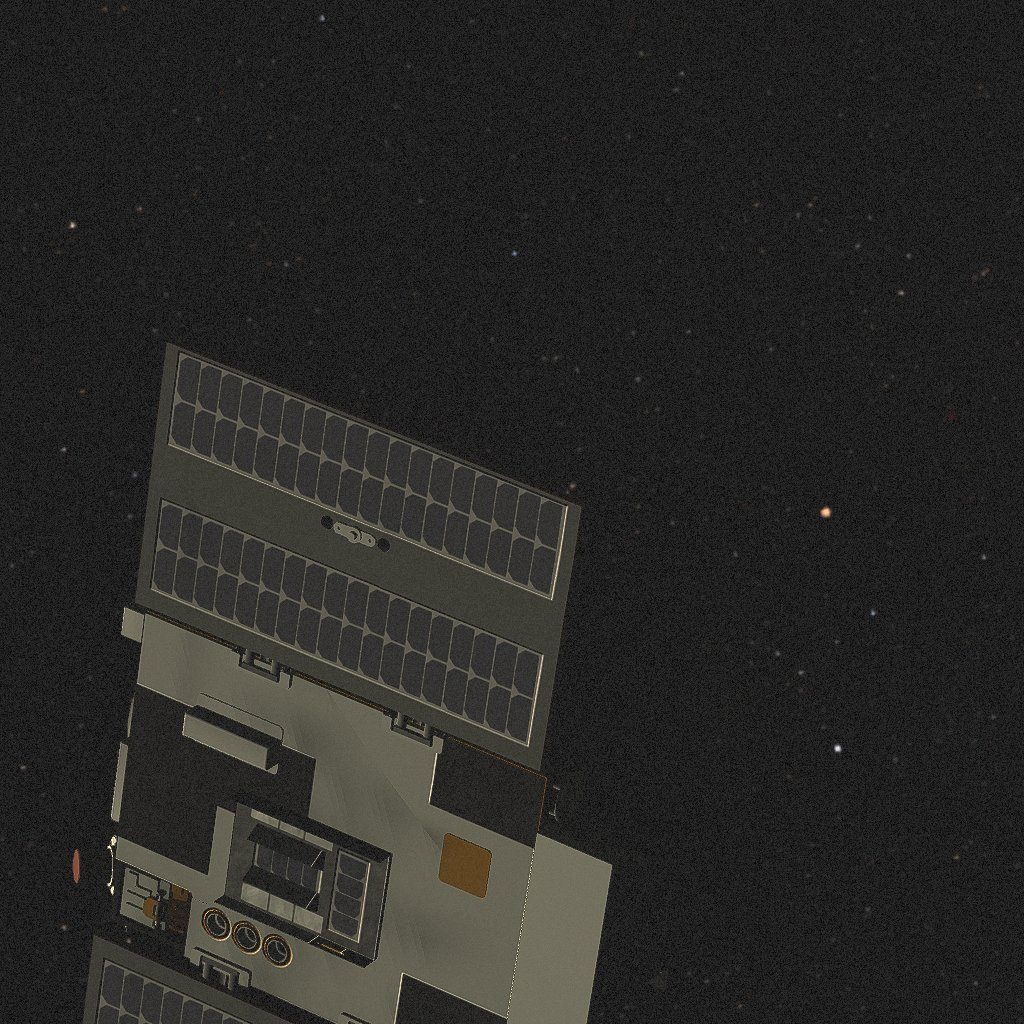proba_2: (86, 346, 668, 1006)
